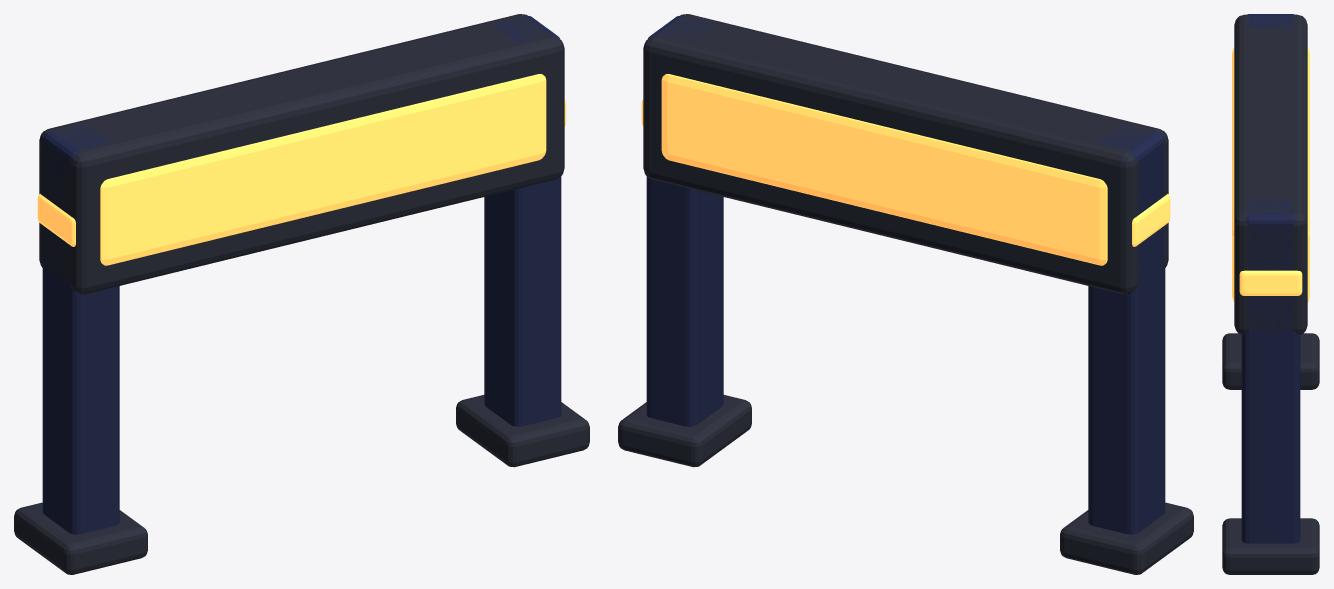
The model's file is barrier.glb.
3 views of the same model, side by side, from view 1: azimuth 30°, elevation 25°; view 2: azimuth 150°, elevation 25°; view 3: azimuth 270°, elevation 25° (orthographic). The views are drawn at different scales.
Visible parts, largest first — view 1: BeamFrame, BeamGlow, Post, Post.001, PostFoot, PostFoot.001, PostGlow; view 2: BeamFrame, BeamGlow, Post, Post.001, PostFoot, PostFoot.001, PostGlow; view 3: BeamFrame, Post.001, PostFoot.001, PostFoot, PostGlow.001, BeamGlow, Post.
Boxes of the visible parts, x1=… form: BeamFrame: x1=39, y1=14, x2=564, y2=294; BeamGlow: x1=100, y1=74, x2=546, y2=265; Post: x1=42, y1=124, x2=119, y2=534; Post.001: x1=484, y1=16, x2=561, y2=426; PostFoot: x1=14, y1=502, x2=147, y2=574; PostFoot.001: x1=456, y1=395, x2=589, y2=467; PostGlow: x1=37, y1=194, x2=75, y2=246; BeamFrame: x1=643, y1=14, x2=1168, y2=294; BeamGlow: x1=661, y1=74, x2=1107, y2=265; Post: x1=1088, y1=124, x2=1165, y2=534; Post.001: x1=646, y1=16, x2=723, y2=426; PostFoot: x1=1060, y1=502, x2=1193, y2=574; PostFoot.001: x1=618, y1=395, x2=751, y2=467; PostGlow: x1=1132, y1=194, x2=1170, y2=246; BeamFrame: x1=1234, y1=14, x2=1307, y2=334; Post.001: x1=1241, y1=199, x2=1300, y2=543; PostFoot.001: x1=1222, y1=518, x2=1319, y2=574; PostFoot: x1=1222, y1=333, x2=1319, y2=389; PostGlow.001: x1=1239, y1=270, x2=1302, y2=295; BeamGlow: x1=1232, y1=48, x2=1309, y2=302; Post: x1=1247, y1=14, x2=1294, y2=28.
Size of the model in its own units: 2.14 by 1.6 by 0.4.
